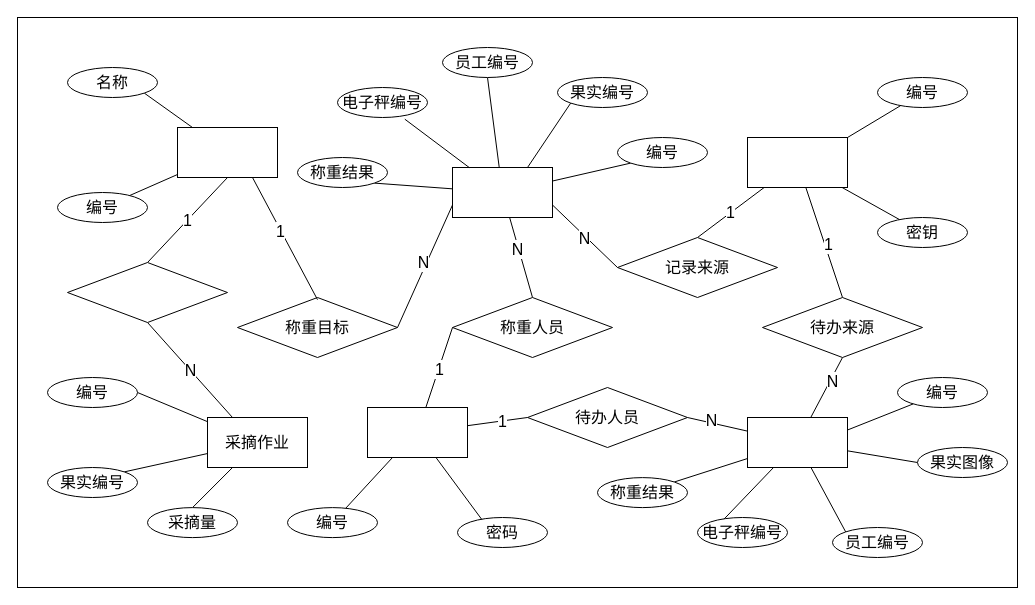
The diagram is 1035 pixels wide and 605 high, and some of its shapes have lost their labels. Here are the shapes that lost their labels. From the top down, the centre of each, then its label:
At point 227,152: "果实".
At point 797,162: "电子秤".
At point 502,192: "称重记录".
At point 147,292: "采摘目标".
At point 417,432: "用户".
At point 797,442: "待办记录".
